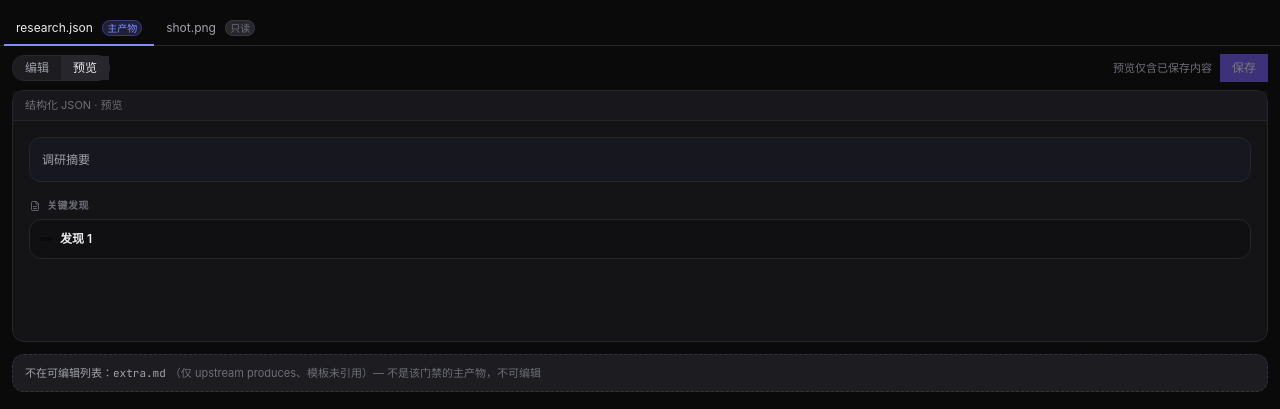
Scenario: GateProductEditor › shows readonly badge and disables edit/save for image products
Expected: the text "只读" is shown, [225, 20, 255, 36]
Expected: the element with test id "gate-excluded-produces" shows "extra.md", [113, 366, 166, 380]
Click the tab "shot.png 只读".
click(211, 29)  # box [154, 12, 267, 46]
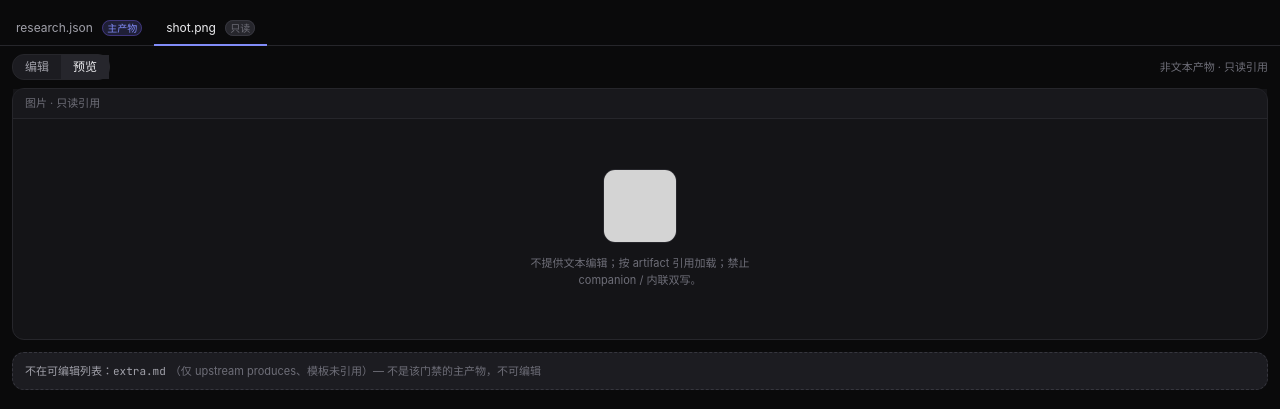
Expected: the element with test id "gate-readonly-image" is shown, [530, 169, 749, 286]
Expected: the button with test id "gate-mode-edit" is disabled, [13, 55, 61, 79]
